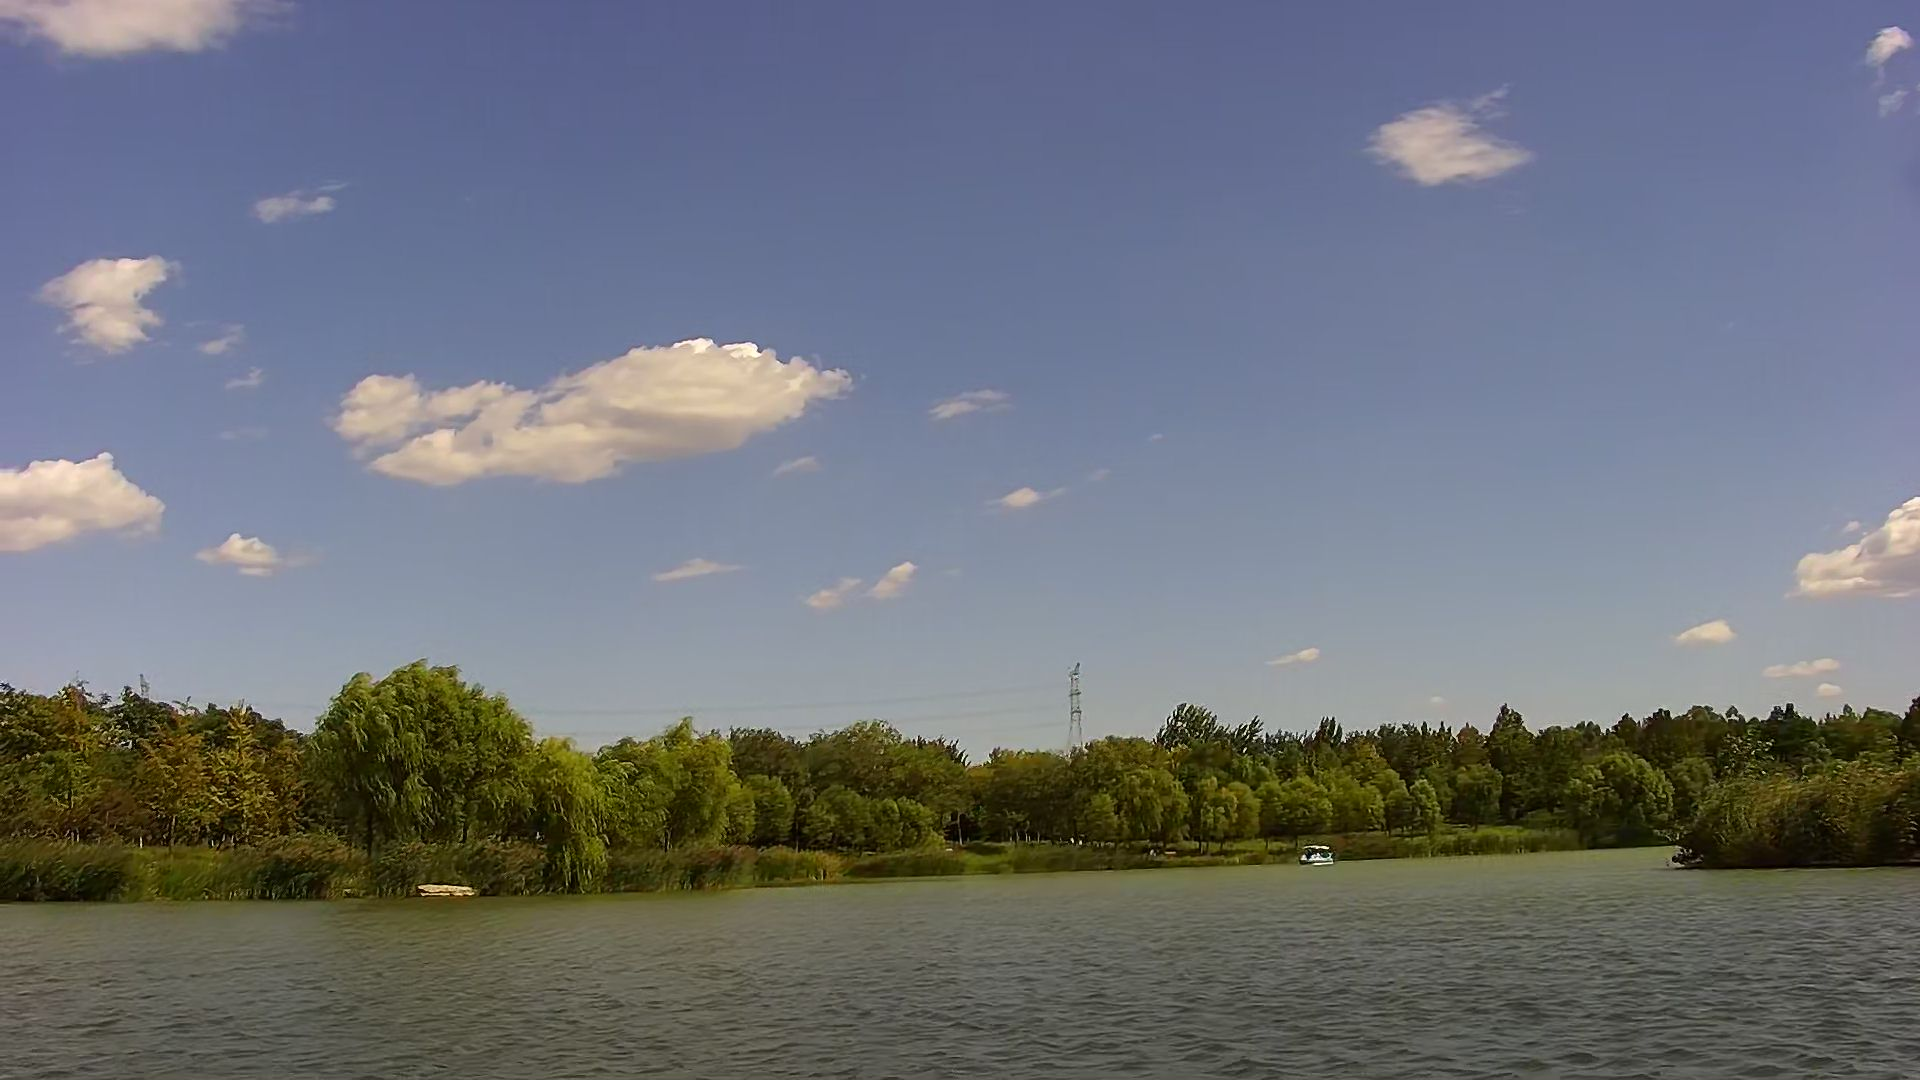boat: (1294, 843, 1335, 869)
